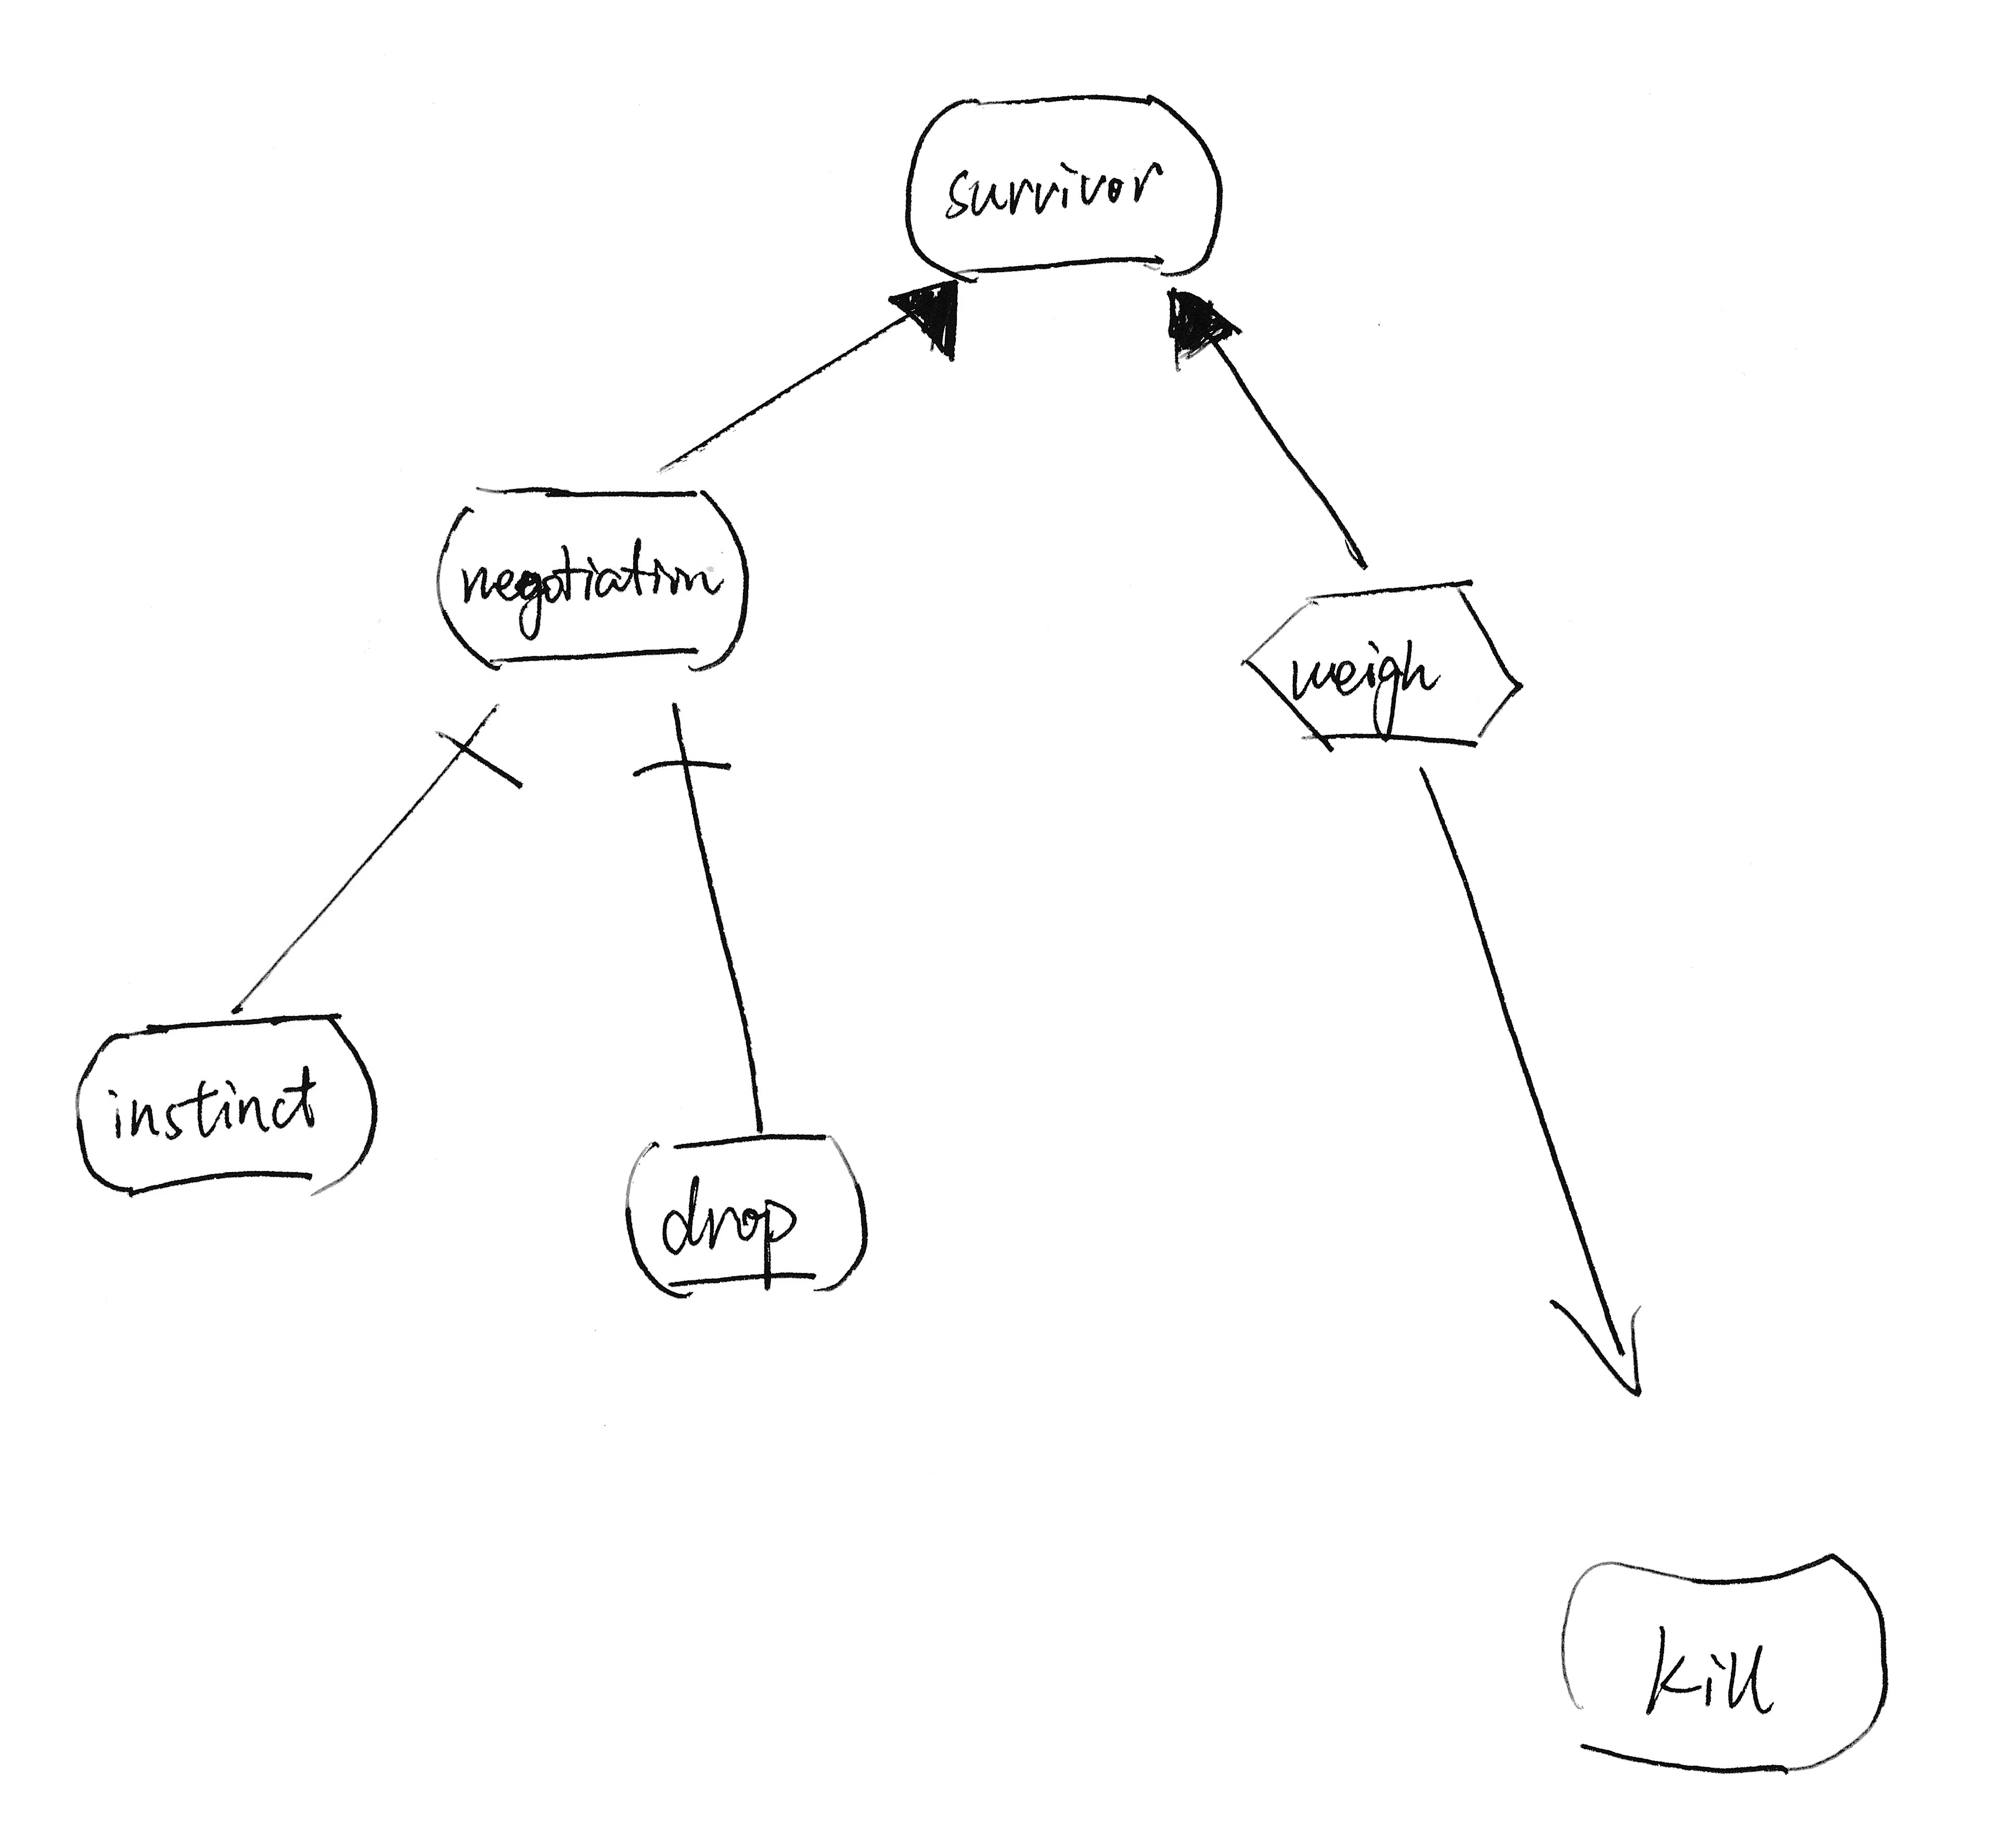and: (622, 702, 754, 806), (424, 691, 528, 806)
arrow: (1534, 1271, 1680, 1421)
goal: (888, 69, 1244, 292), (410, 465, 761, 681), (56, 995, 389, 1204), (605, 1117, 881, 1317)
or: (1145, 269, 1254, 373), (872, 266, 971, 377)
quality: (1534, 1520, 1920, 1789)
task: (1233, 566, 1543, 768)
